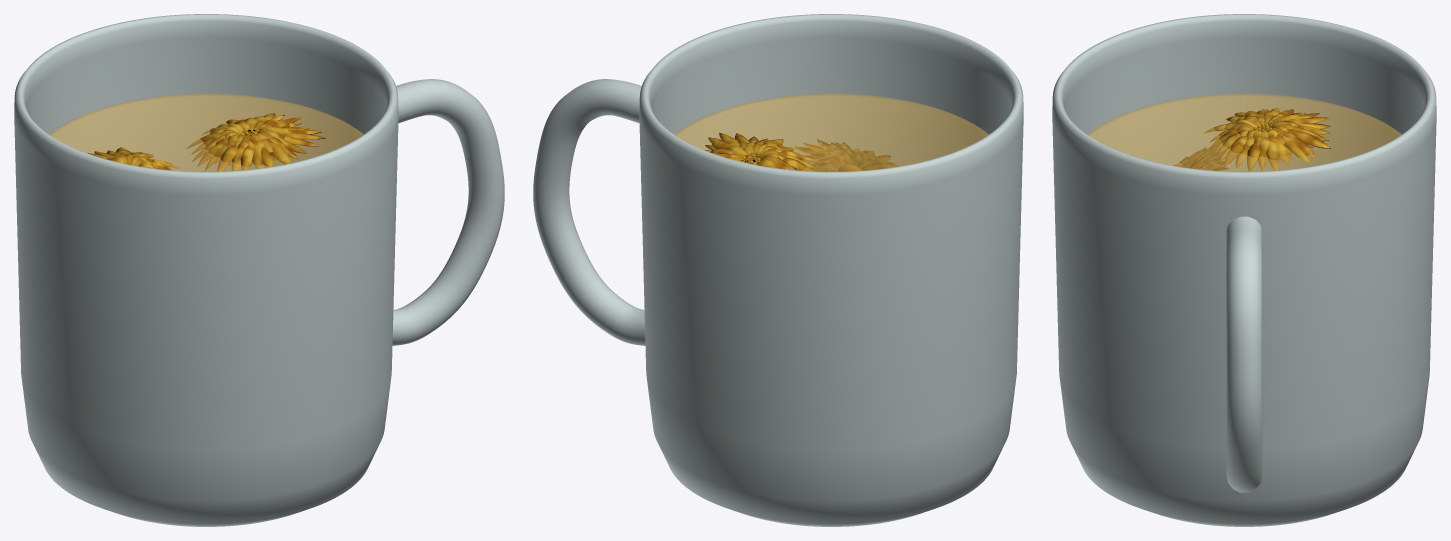
Rendered from guangzhou-tea.glb.
3 views of the same model, side by side, from view 1: azimuth 30°, elevation 25°; view 2: azimuth 150°, elevation 25°; view 3: azimuth 270°, elevation 25° (orthographic).
Visible parts, largest first — view 1: guangzhou-tea; view 2: guangzhou-tea; view 3: guangzhou-tea.
Boxes of the visible parts, x1,y1,x2,y2 form: guangzhou-tea: (14, 14, 504, 526); guangzhou-tea: (533, 14, 1023, 526); guangzhou-tea: (1052, 14, 1436, 526).
Bounding box in the file's own units: 0.1166 × 0.091 × 0.084.
7 materials, 5 textured.
